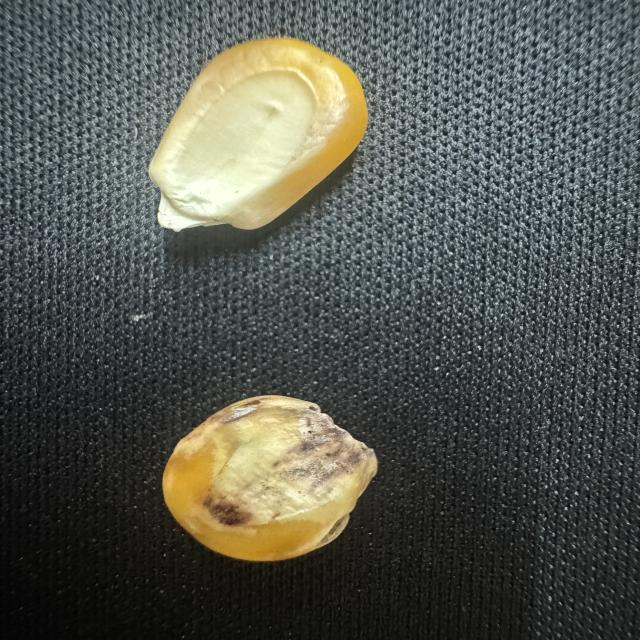Bad-Seed: (148, 391, 384, 573)
Good-Seed: (132, 29, 378, 247)
